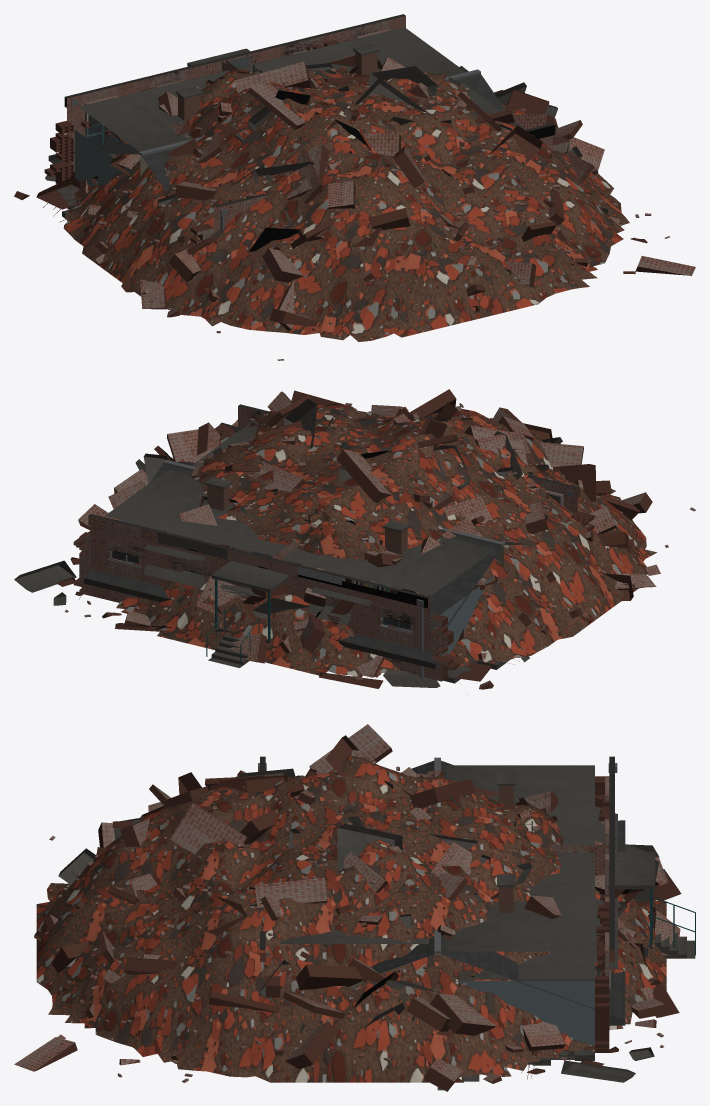
The model's file is bld_hr_c.glb.
3 renders of one model, top to bottom at view 1: azimuth 30°, elevation 25°; view 2: azimuth 150°, elevation 25°; view 3: azimuth 270°, elevation 25°, orthographic. The views are drawn at different scales.
Visible parts, largest first — view 1: rubble_xl, sec_ground_F_s2c, sec_ground_F_s0, sec_ground_F_s2a, edge_L_F_a, sec_ground_F_s2b, roof_F, sec_top0_F_s0, roof_Y, sec_top0_Y_s0, rubble_l, sec_floor0_F_s0 (+1 smaller); view 2: rubble_xl, sec_ground_F_s0, roof_F, sec_ground_F_s2c, sec_top0_F_s0, sec_ground_F_s2a, sec_floor0_F_s0, rubble_l, edge_L_F_a, rubble_m, roof_F_e, sec_floor0_F_s2a (+9 smaller); view 3: rubble_xl, sec_ground_F_s2a, sec_ground_F_s2c, edge_R_F_a, sec_ground_F_s2b, roof_F, sec_ground_F_s0, sec_floor0_F_s2a, rubble_m, sec_top0_F_s0, rubble_l, cor_ground_F_s2a (+4 smaller).
Part boxes in pixels (x1,y1,x2,y2): rubble_xl: (14,53,695,360); sec_ground_F_s2c: (67,67,244,156); sec_ground_F_s0: (67,16,405,175); sec_ground_F_s2a: (258,17,465,76); edge_L_F_a: (43,121,134,222); sec_ground_F_s2b: (203,30,453,76); roof_F: (73,43,478,154); sec_top0_F_s0: (64,14,405,120); roof_Y: (140,70,503,191); sec_top0_Y_s0: (214,123,555,228); rubble_l: (36,175,98,209); sec_floor0_F_s0: (67,116,118,171); rubble_xl: (14,389,695,689); sec_ground_F_s0: (90,526,503,677); roof_F: (84,461,503,665); sec_ground_F_s2c: (269,536,498,649); sec_top0_F_s0: (88,514,430,675); sec_ground_F_s2a: (91,469,256,584); sec_floor0_F_s0: (90,536,430,678); rubble_l: (75,575,492,687); edge_L_F_a: (430,574,514,683); rubble_m: (123,593,383,688); roof_F_e: (84,461,441,668); sec_floor0_F_s2a: (90,520,294,601); rubble_xl: (14,724,679,1091); sec_ground_F_s2a: (446,885,617,976); sec_ground_F_s2c: (446,765,617,858); edge_R_F_a: (437,981,609,1090); sec_ground_F_s2b: (446,862,617,965); roof_F: (437,757,625,1025); sec_ground_F_s0: (605,777,695,989); sec_floor0_F_s2a: (464,936,617,979); rubble_m: (618,869,681,1018); sec_top0_F_s0: (605,756,617,961); rubble_l: (495,844,666,1052); cor_ground_F_s2a: (529,847,606,895).
Size of what is drawn, in the model's own units: 23.31 by 7.93 by 23.81.
1 material, 1 textured.
